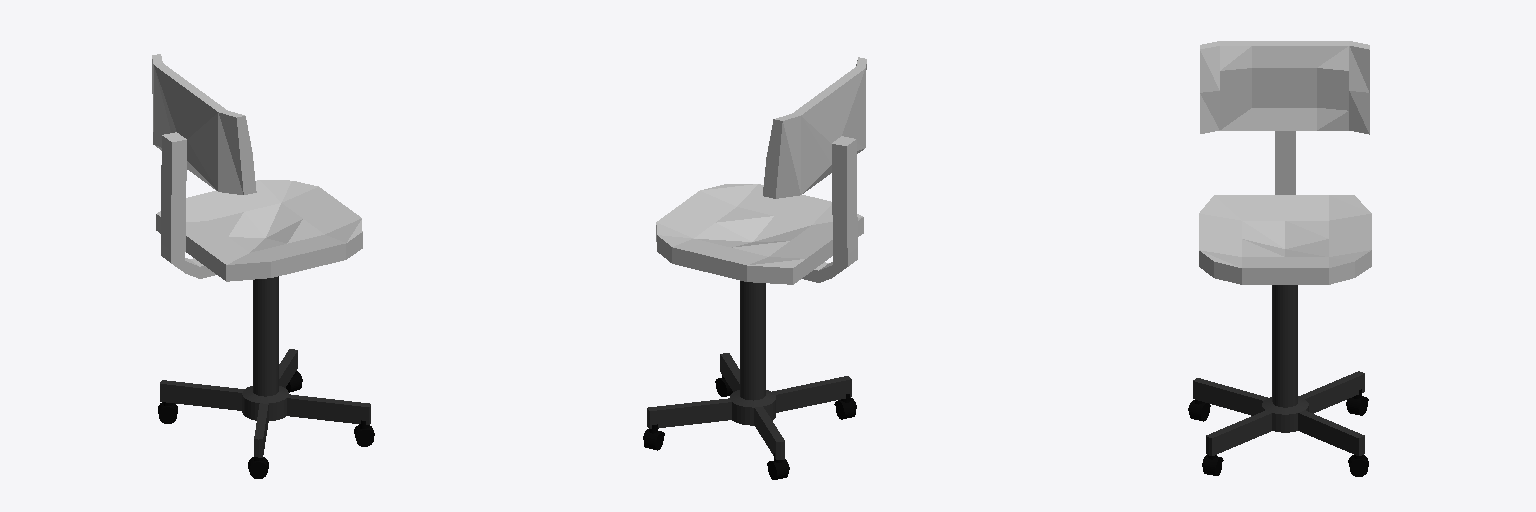
Rendered from stoel.obj.
3 renders of one model, left to right at view 1: azimuth 30°, elevation 25°; view 2: azimuth 150°, elevation 25°; view 3: azimuth 270°, elevation 25°, orthographic.
Visible parts, largest first — view 1: Cylinder; view 2: Cylinder; view 3: Cylinder.
Boxes of the visible parts, <box> form: Cylinder: <box>152,54,374,478</box>; Cylinder: <box>643,57,866,479</box>; Cylinder: <box>1188,41,1371,476</box>.
Bounding box in the file's own units: 1.17 × 2.32 × 1.06.